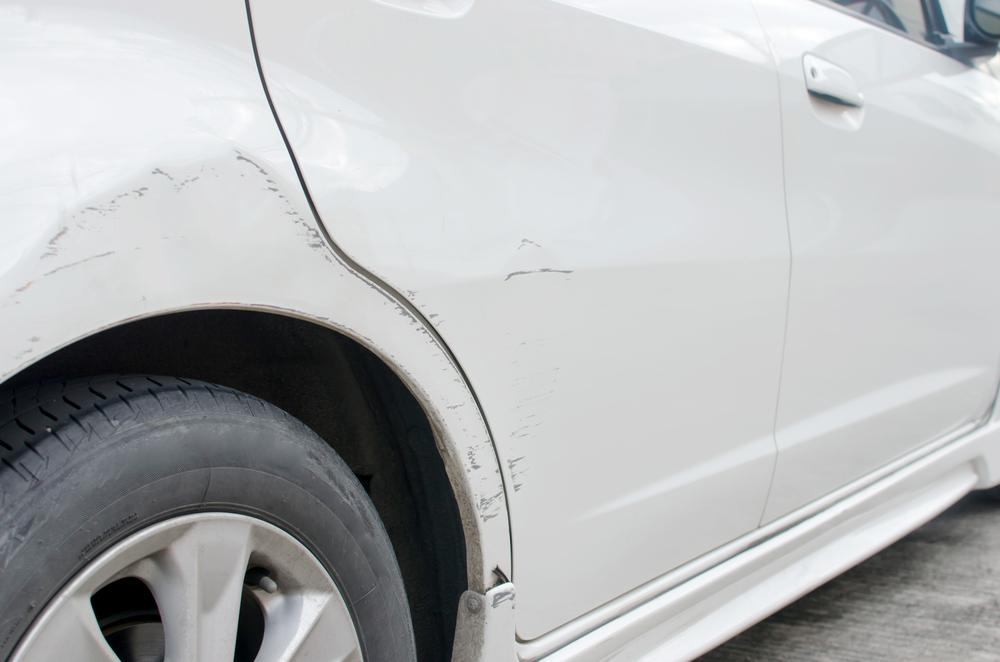scratch: (0, 149, 508, 525), (505, 233, 578, 499)
